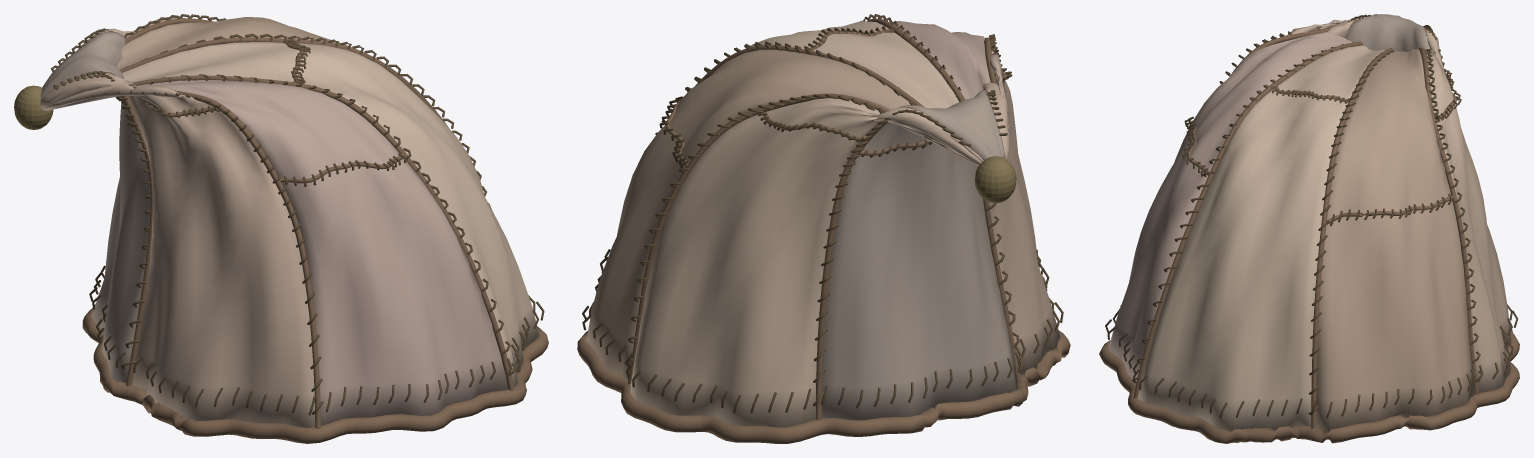
File: patched-costume-cap.glb
The picture shows the model from 3 angles, left to right: view 1: azimuth 30°, elevation 25°; view 2: azimuth 150°, elevation 25°; view 3: azimuth 270°, elevation 25°; orthographic projection. The views are drawn at different scales.
Parts seen in each view (by area): view 1: FauxLeatherPanel4, FauxLeatherPanel3, FauxLeatherPanel5, RolledHemAndSeamWelts, FauxLeatherPanel2, IndividualWaxedStitches, FauxLeatherPanel0, TarnishedCostumeBell; view 2: FauxLeatherPanel1, FauxLeatherPanel2, FauxLeatherPanel0, RolledHemAndSeamWelts, IndividualWaxedStitches, FauxLeatherPanel3, FauxLeatherPanel5, FauxLeatherPanel4, TarnishedCostumeBell; view 3: FauxLeatherPanel5, FauxLeatherPanel0, FauxLeatherPanel4, RolledHemAndSeamWelts, FauxLeatherPanel1, IndividualWaxedStitches, FauxLeatherPanel2, FauxLeatherPanel3.
Boxes of the visible parts, box(x1,y1,x2,y2) form: FauxLeatherPanel4: box(45, 80, 508, 425); FauxLeatherPanel3: box(40, 73, 315, 427); FauxLeatherPanel5: box(122, 42, 539, 386); RolledHemAndSeamWelts: box(40, 18, 548, 443); FauxLeatherPanel2: box(40, 31, 150, 382); IndividualWaxedStitches: box(51, 14, 544, 415); FauxLeatherPanel0: box(117, 17, 352, 69); TarnishedCostumeBell: box(14, 85, 53, 129); FauxLeatherPanel1: box(630, 98, 983, 427); FauxLeatherPanel2: box(821, 90, 1017, 420); FauxLeatherPanel0: box(586, 49, 910, 380); RolledHemAndSeamWelts: box(577, 18, 1070, 443); IndividualWaxedStitches: box(582, 14, 1063, 413); FauxLeatherPanel3: box(983, 41, 1060, 375); FauxLeatherPanel5: box(751, 21, 958, 108); FauxLeatherPanel4: box(893, 21, 990, 99); TarnishedCostumeBell: box(974, 156, 1016, 202); FauxLeatherPanel5: box(1138, 45, 1386, 431); FauxLeatherPanel0: box(1316, 49, 1475, 432); FauxLeatherPanel4: box(1109, 31, 1352, 381); RolledHemAndSeamWelts: box(1099, 18, 1519, 443); FauxLeatherPanel1: box(1424, 28, 1510, 392); IndividualWaxedStitches: box(1105, 14, 1517, 418); FauxLeatherPanel2: box(1345, 14, 1429, 51); FauxLeatherPanel3: box(1264, 17, 1361, 48).
Bounding box in the file's own units: 0.3572 × 0.2435 × 0.3349.
